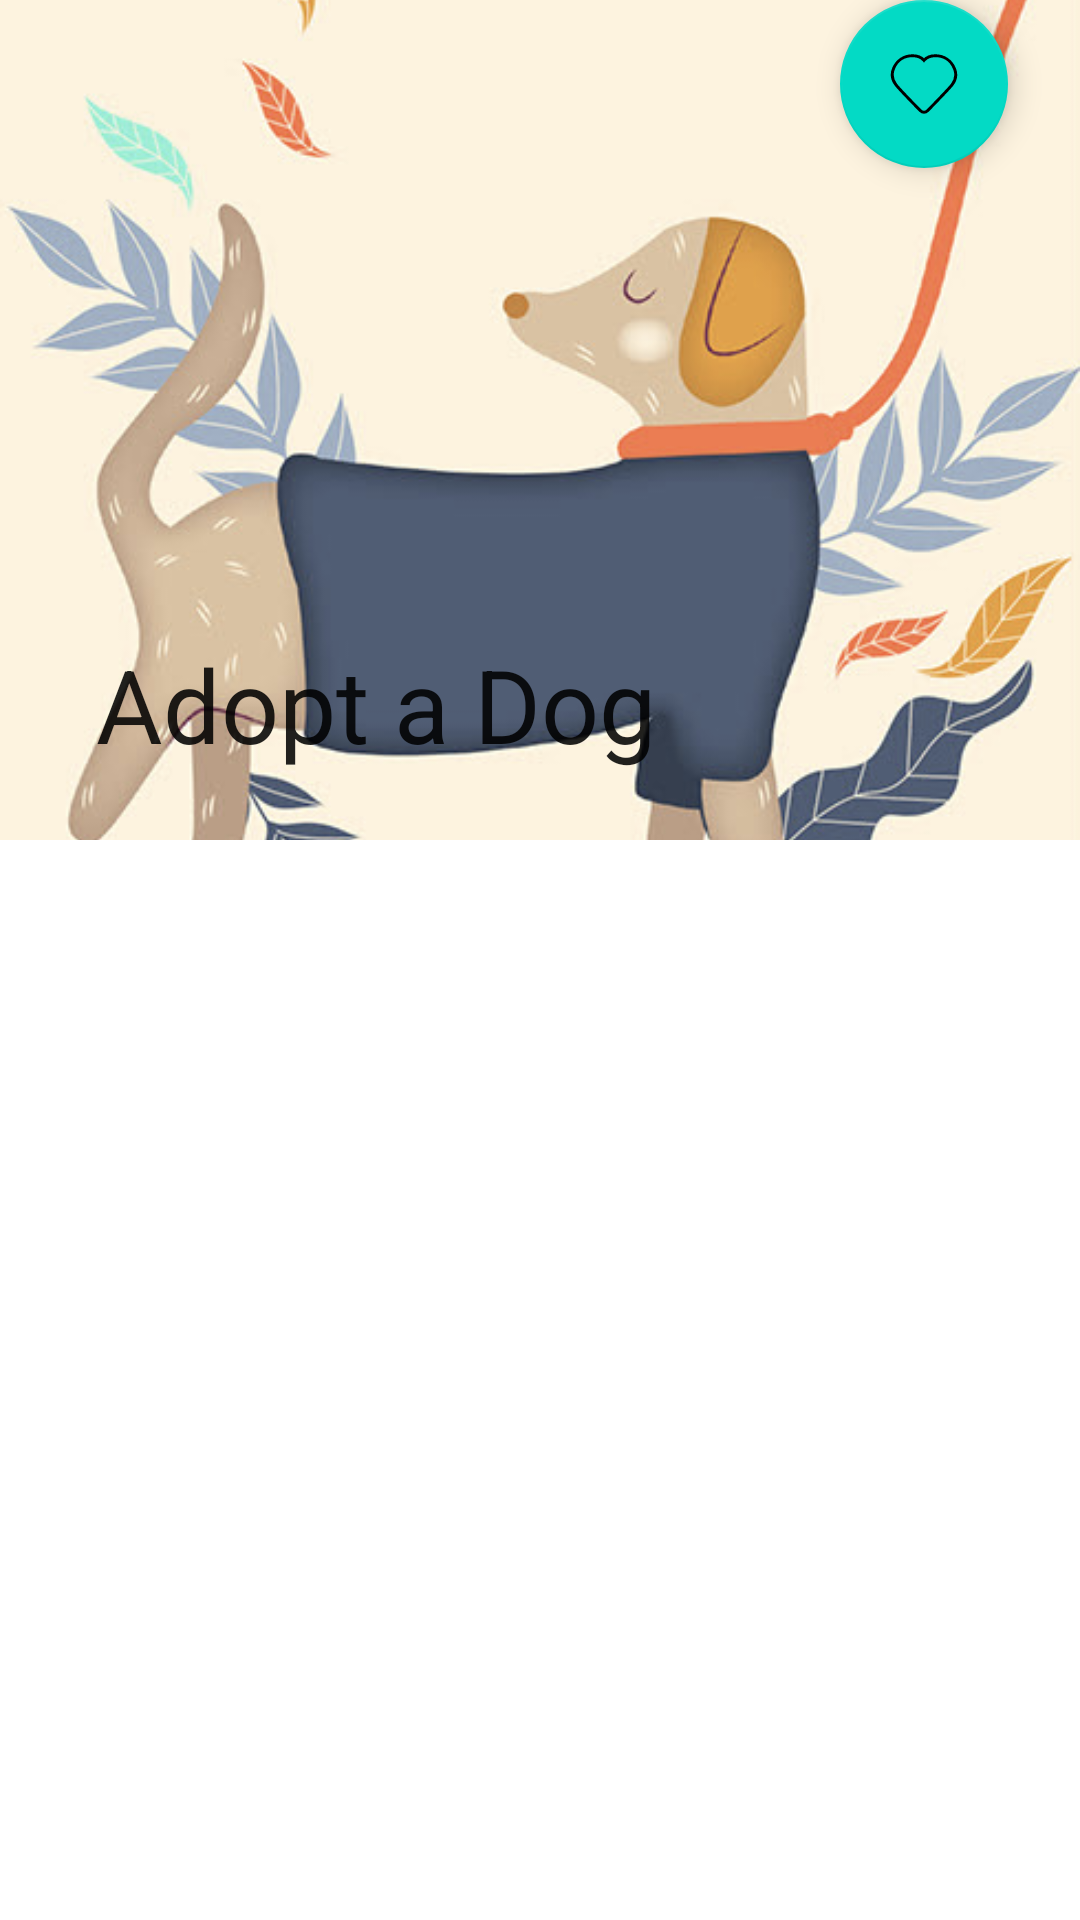

Where icons sit on this 1080w x 1920h app screen, as (x1, y1, x2, y2):
favorite: (840, 0, 1008, 168)
